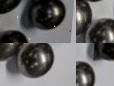ironball: (17, 43, 55, 78), (30, 0, 65, 30), (76, 59, 101, 85), (88, 18, 113, 42), (75, 1, 92, 35), (0, 42, 22, 60), (93, 43, 113, 61), (1, 29, 28, 42), (1, 0, 24, 14)
